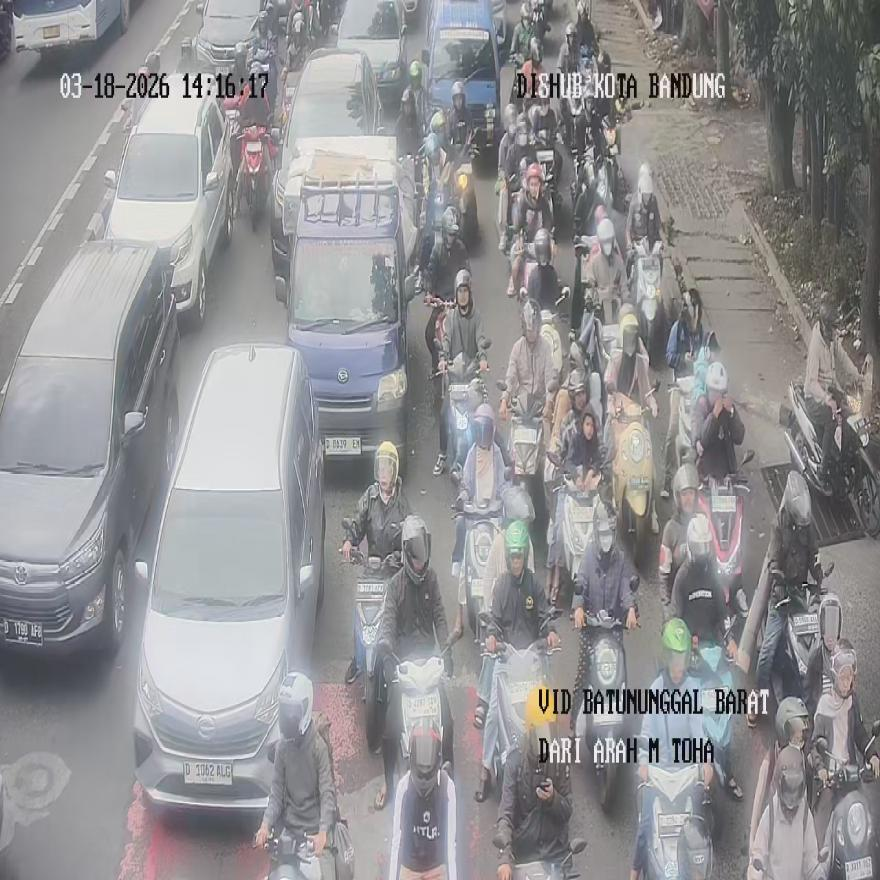Mobil: (132, 342, 324, 812), (0, 239, 179, 656), (275, 140, 419, 480), (102, 72, 232, 331), (270, 47, 384, 278), (421, 0, 502, 165), (11, 0, 130, 57)
Motor: (572, 576, 638, 809), (782, 382, 880, 538), (480, 632, 560, 803), (809, 722, 880, 880), (772, 560, 842, 715), (349, 554, 400, 754), (688, 616, 743, 799), (634, 759, 714, 880), (389, 652, 453, 800), (696, 450, 754, 611), (606, 392, 657, 568), (391, 761, 457, 880), (452, 495, 502, 642), (442, 335, 490, 480), (668, 329, 718, 464), (554, 466, 600, 611), (630, 242, 669, 373), (505, 388, 543, 520), (493, 832, 586, 880), (237, 123, 276, 230), (262, 824, 326, 880), (454, 130, 478, 246), (496, 170, 520, 253)
